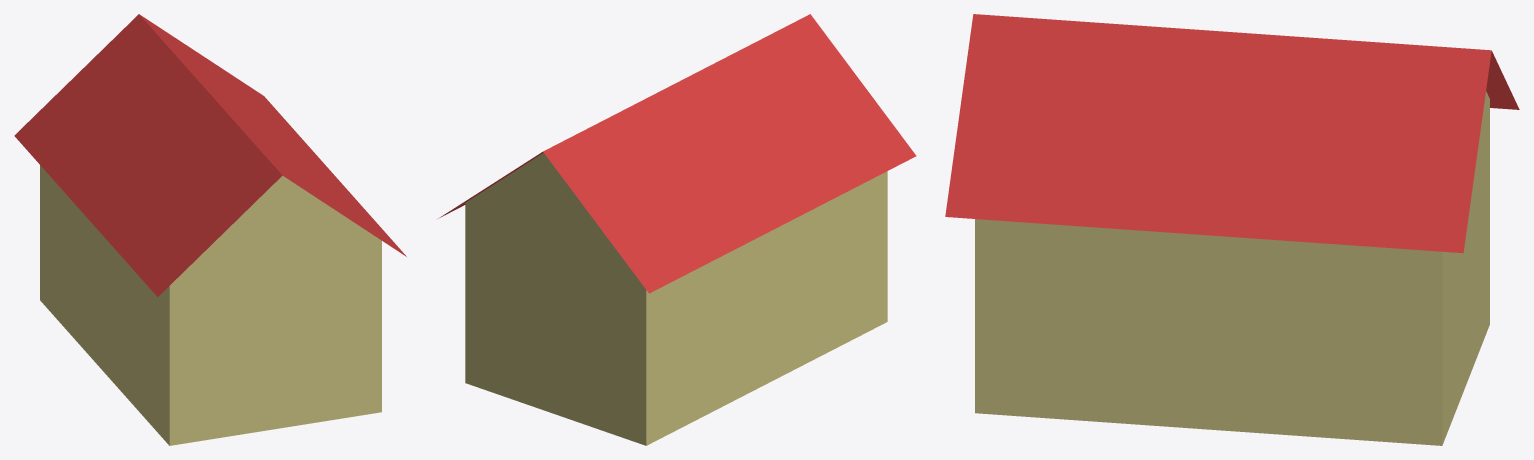
3 renders of one model, left to right at view 1: azimuth 30°, elevation 25°; view 2: azimuth 150°, elevation 25°; view 3: azimuth 270°, elevation 25°, orthographic. The views are drawn at different scales.
Size of the model in its own units: 12.34 by 16.68 by 10.78.
